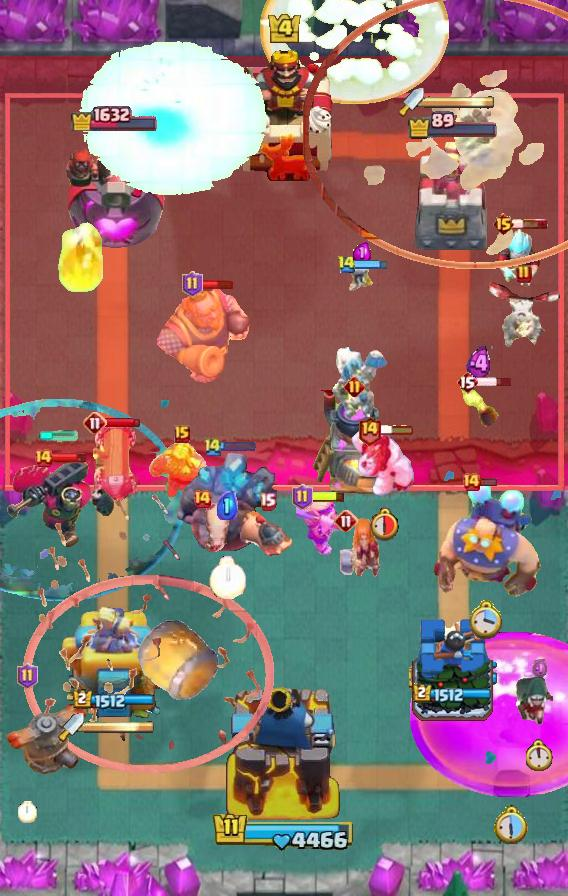arrows: (296, 493, 342, 557)
bar: (60, 607, 168, 731), (412, 140, 494, 256)
battle-healer: (86, 422, 140, 504)
bomber: (457, 381, 501, 427)
cannoneer-tower: (177, 451, 277, 551)
clock: (212, 811, 356, 853)
dark-prince: (0, 689, 90, 779)
dirt: (135, 616, 221, 704)
electro-spirit: (466, 346, 493, 382), (217, 491, 238, 520), (353, 242, 371, 264), (531, 658, 548, 679)
elixir: (209, 556, 246, 599), (469, 597, 505, 638), (494, 805, 530, 845), (367, 506, 399, 541), (526, 739, 554, 771), (19, 801, 38, 823)
emote: (310, 489, 346, 502), (475, 376, 512, 388), (512, 218, 548, 230), (105, 417, 141, 429), (379, 424, 415, 436), (51, 452, 87, 464), (353, 259, 389, 270), (221, 441, 257, 452), (200, 278, 234, 289), (478, 477, 498, 487)
executioner: (240, 511, 294, 561)
giant: (199, 499, 233, 555)
giant-skeleton: (150, 283, 258, 387)
goblin-hut: (148, 441, 216, 500)
heal-spirit: (348, 262, 376, 294)
hog-rider: (336, 518, 384, 580)
hunter: (309, 390, 399, 498)
ice-spirit: (39, 430, 79, 442)
inferno-tower: (2, 454, 116, 550)
king-tower: (223, 680, 345, 826), (232, 45, 336, 181)
king-tower-bar: (424, 95, 496, 109), (84, 720, 154, 734)
knight-evolution: (408, 630, 568, 798)
little-prince: (431, 478, 543, 598)
mega-knight: (74, 37, 271, 198)
mini-pekka: (486, 278, 562, 354), (327, 343, 391, 425)
mortar: (494, 223, 542, 289)
pad_0: (0, 399, 186, 605)
phoenix-big: (258, 0, 449, 104)
queen-tower: (409, 616, 497, 731)
rage: (350, 430, 416, 498)
royal-ghost: (304, 0, 568, 270)
selected: (407, 112, 499, 140), (69, 103, 158, 131), (72, 689, 155, 711), (413, 684, 493, 705)
skeleton-barrel: (21, 493, 274, 773)
tesla: (514, 674, 566, 728)
text: (357, 415, 382, 446), (83, 411, 107, 435), (334, 509, 358, 533), (493, 212, 516, 236), (181, 271, 202, 297), (291, 484, 312, 510), (18, 663, 39, 689), (456, 370, 478, 394), (343, 376, 364, 397), (203, 435, 223, 457), (33, 448, 53, 468), (461, 472, 481, 492), (192, 489, 212, 509), (336, 255, 356, 273), (259, 493, 277, 511), (516, 264, 532, 284), (174, 425, 190, 443)
tower-bar: (60, 132, 167, 256)
valkyrie: (55, 221, 109, 297)
